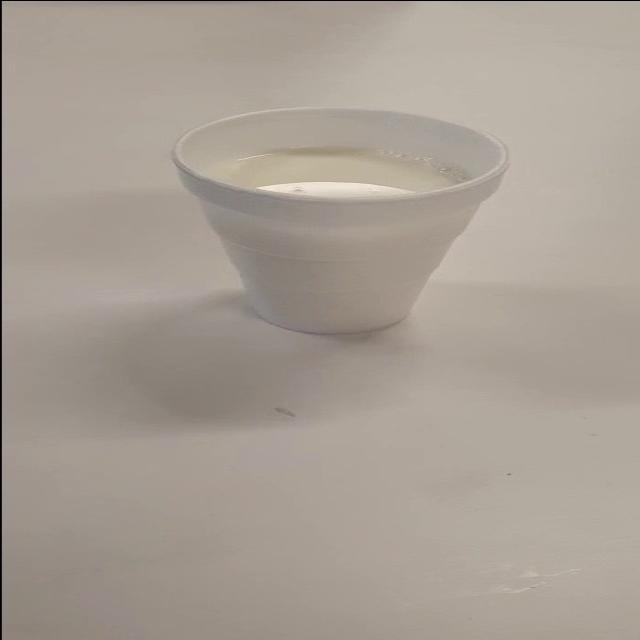Milk: (151, 91, 556, 356)
